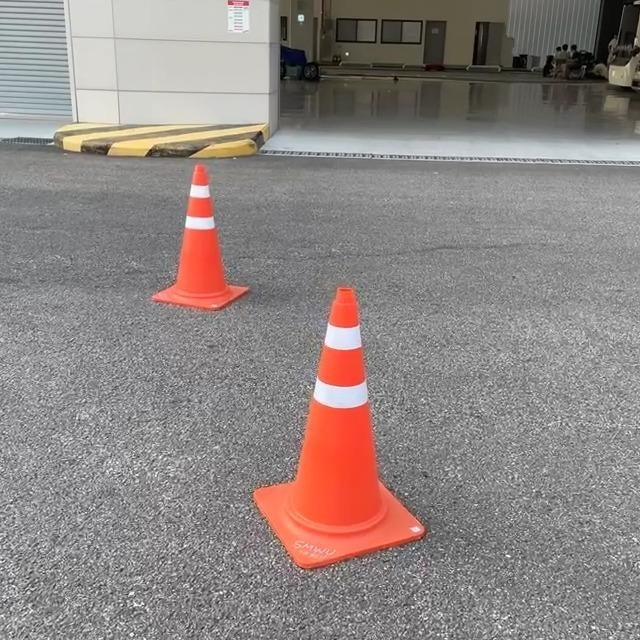fallen_object: (192, 255, 465, 593), (145, 147, 259, 314)
